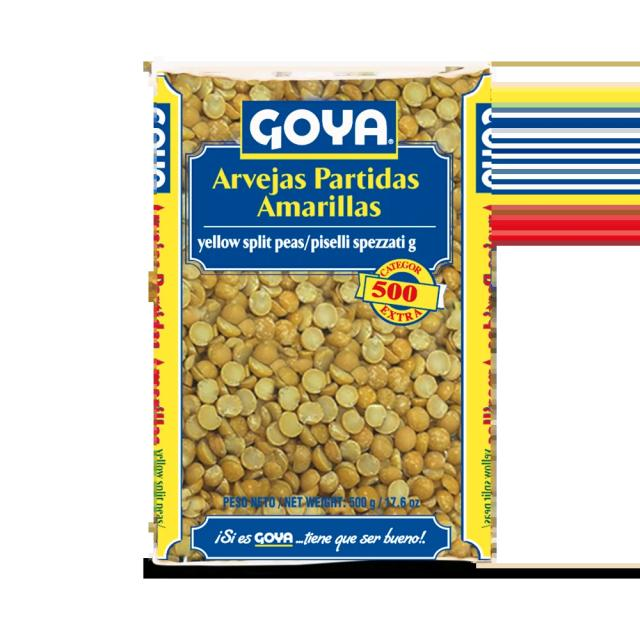arvejas: (191, 324, 450, 492)
